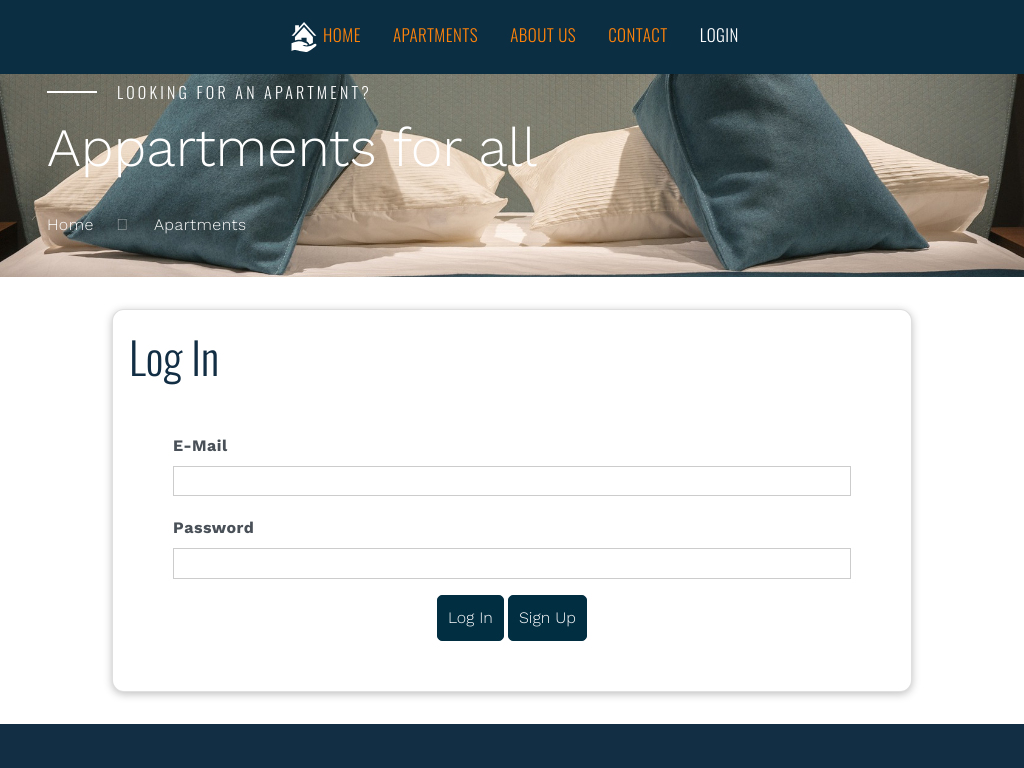
Test: Log in › should not log in, bad format
Expected: the heading "Log In" is shown, [129,324,219,389]
In the field with id "email": (512, 482) [173,466,851,497], type "notvalidemail"
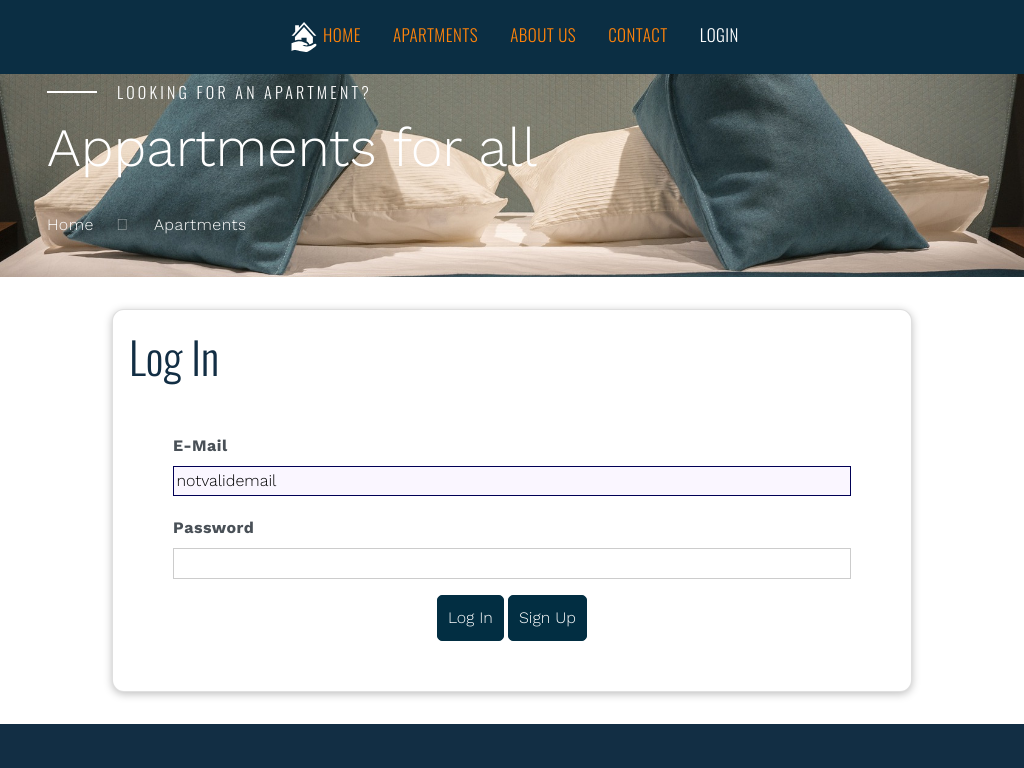
In the password field labelled "Password": (512, 564) [173,548,851,579], type "notvalidemail"
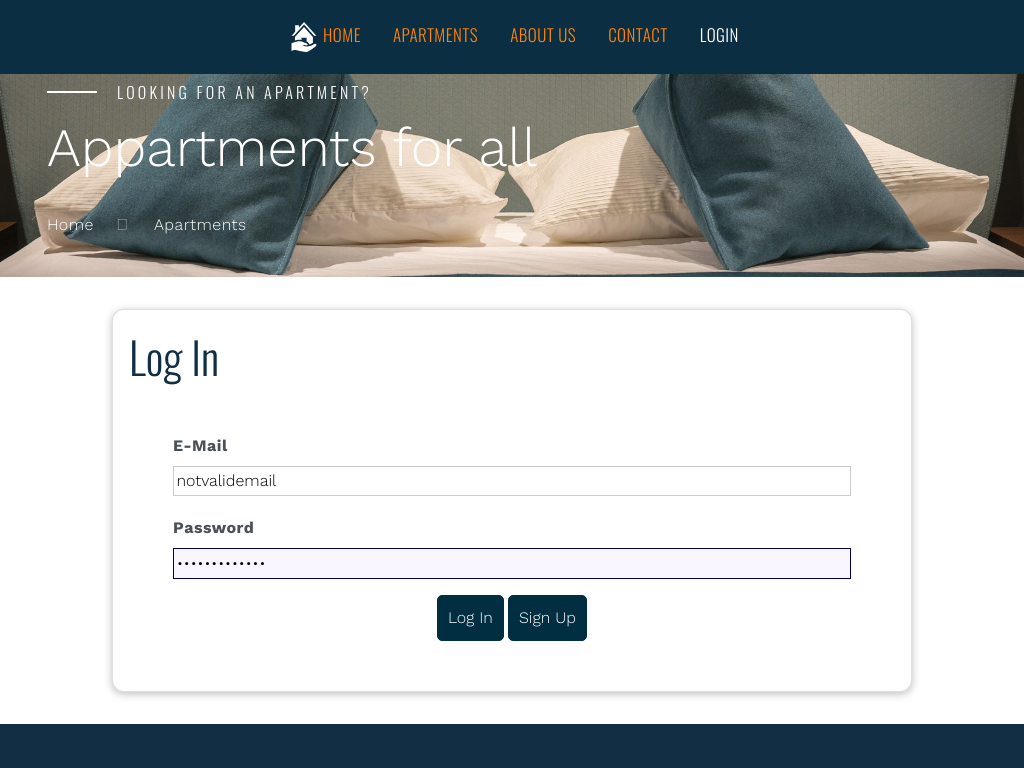
Click the button "Log In": (471, 618) [437,595,504,641]
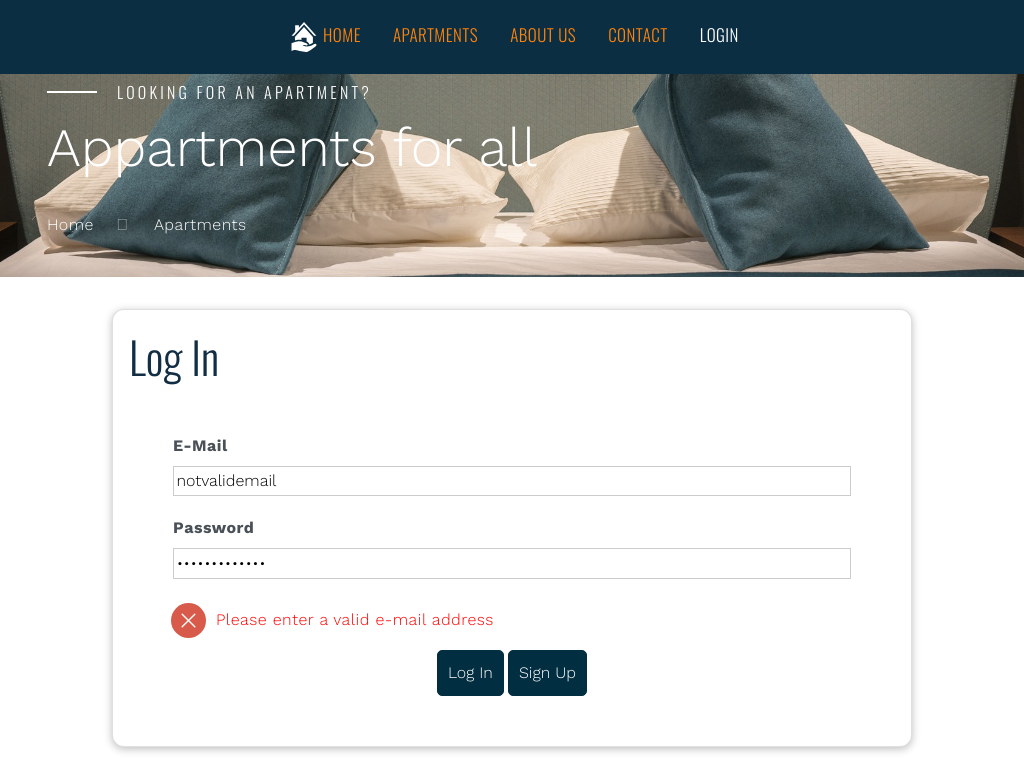
Expected: the heading "Log In" is shown, [129,324,219,389]
Now the text "Please enter a valid e-mail address" is shown, box [171,603,494,638]
